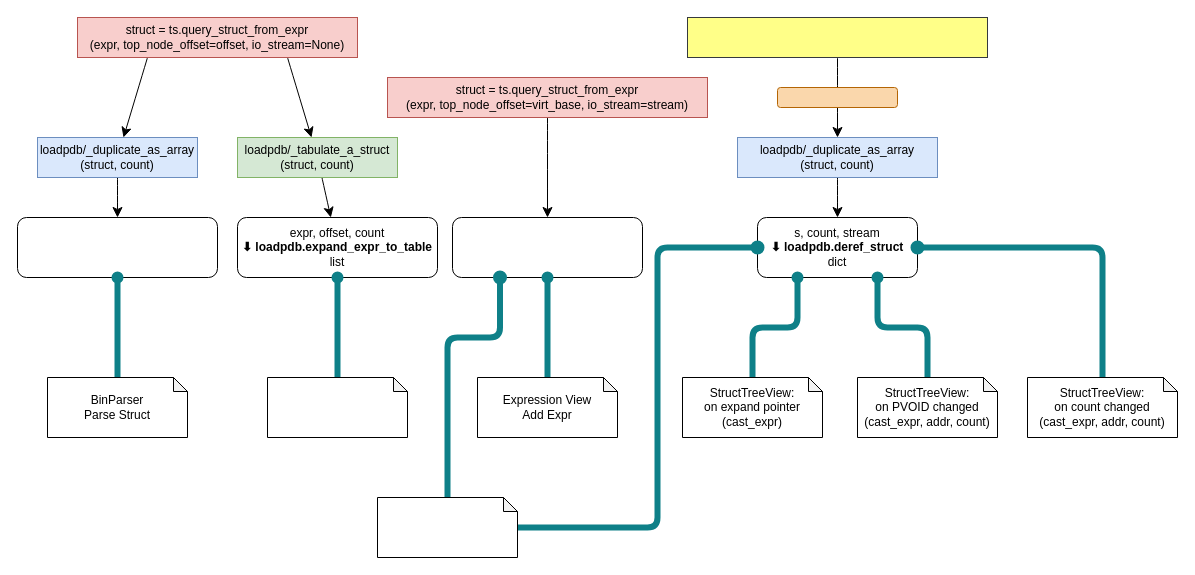
Image size: 1195x575. Some labels were removed from this diagram. The shapes that lost their labels are listed below. From the top down, each one's box as (x1, y1, x2, y2) in pixels, then its label:
(686, 16, 988, 58): struct = ts.deref_pointer_lf (expr= cast_expr, addr=seval(s), io_stream=stream)
(776, 86, 898, 108): expr_modify
(16, 216, 218, 278): expr, offset, count ⬇ loadpdb.expand_expr_to_struct dict
(452, 216, 642, 278): expr, virt_base, stream ⬇ loadpdb.query_struct dict
(266, 376, 408, 438): BinParser Parse Array
(376, 496, 518, 558): Script Usage
